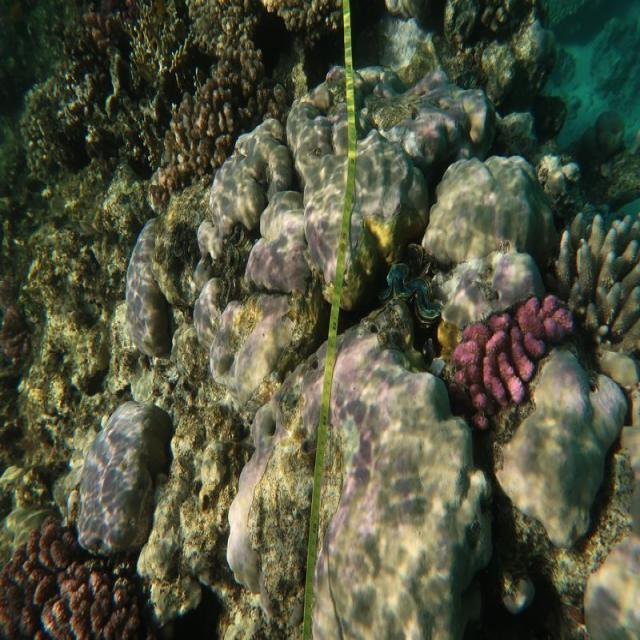Healthy Coral: (445, 285, 575, 429)
